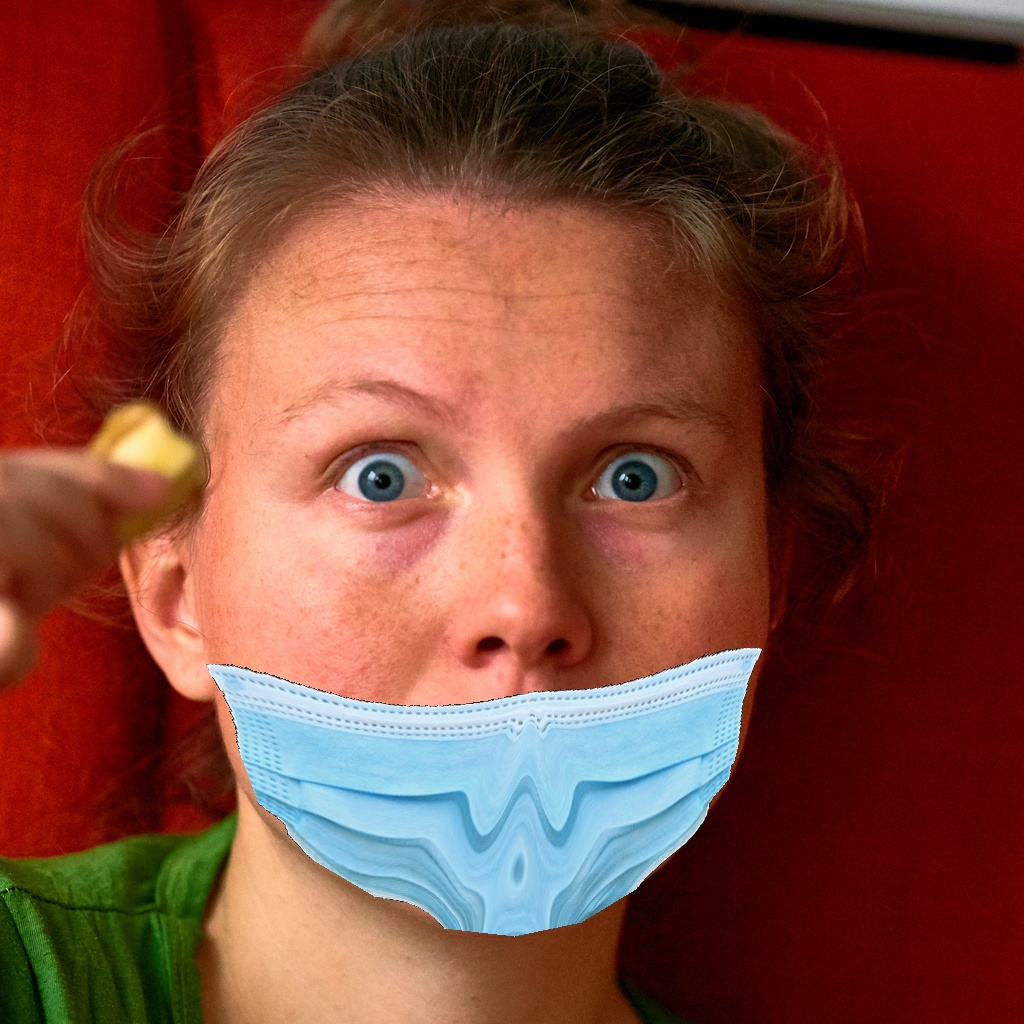mascarilla_mal_puesta: (197, 373, 807, 960)
